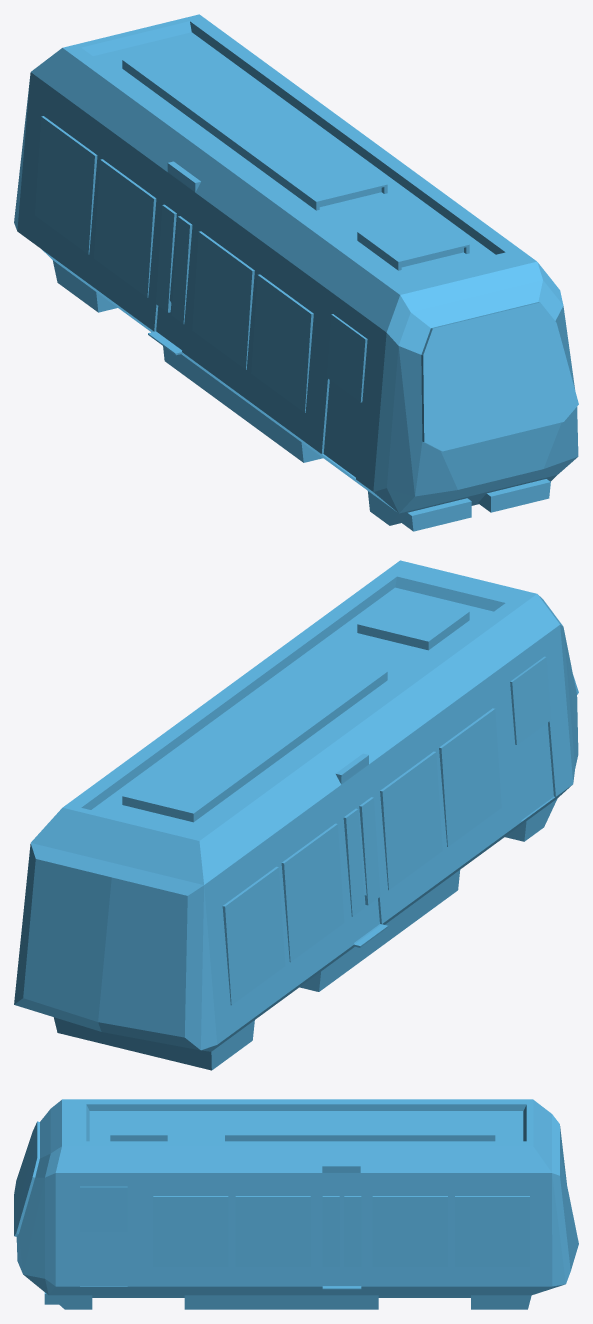
Rendered from train.glb.
3 views of the same model, one above another, from view 1: azimuth 30°, elevation 25°; view 2: azimuth 150°, elevation 25°; view 3: azimuth 270°, elevation 25° (orthographic). The views are drawn at different scales.
Visible parts, largest first — view 1: Train_Cube.001; view 2: Train_Cube.001; view 3: Train_Cube.001.
Part boxes in pixels (left/top/right/bottom): Train_Cube.001: left=14, top=14, right=578, bottom=531; Train_Cube.001: left=14, top=560, right=578, bottom=1070; Train_Cube.001: left=14, top=1099, right=578, bottom=1309.
Size of the model in its own units: 1.72 by 1.78 by 5.68.
